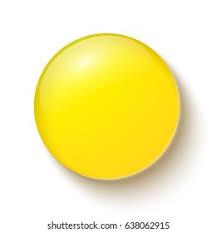yellow_circle: (30, 27, 184, 193)
